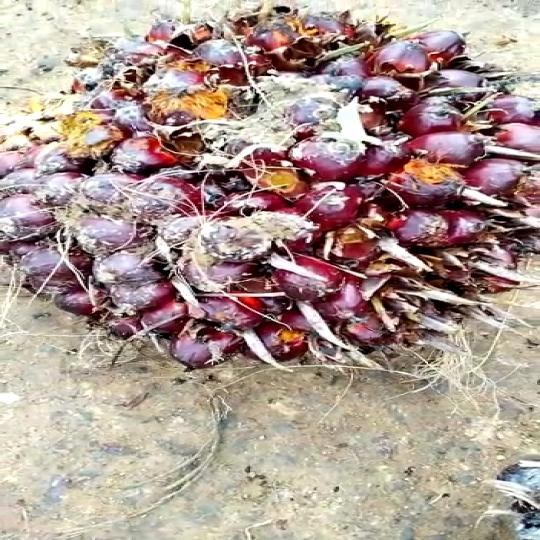masak: (0, 3, 540, 378)
